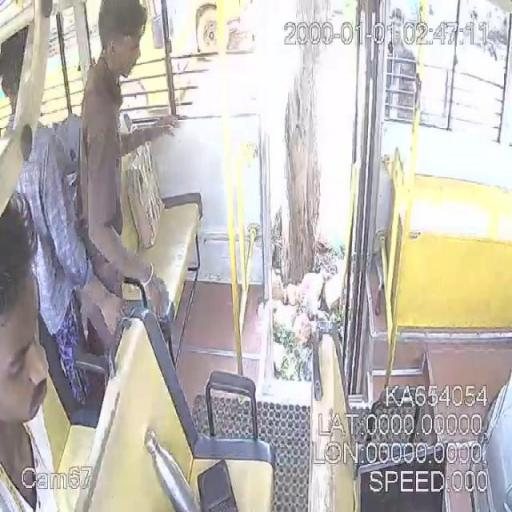persona: (74, 0, 178, 360), (0, 193, 59, 511)
